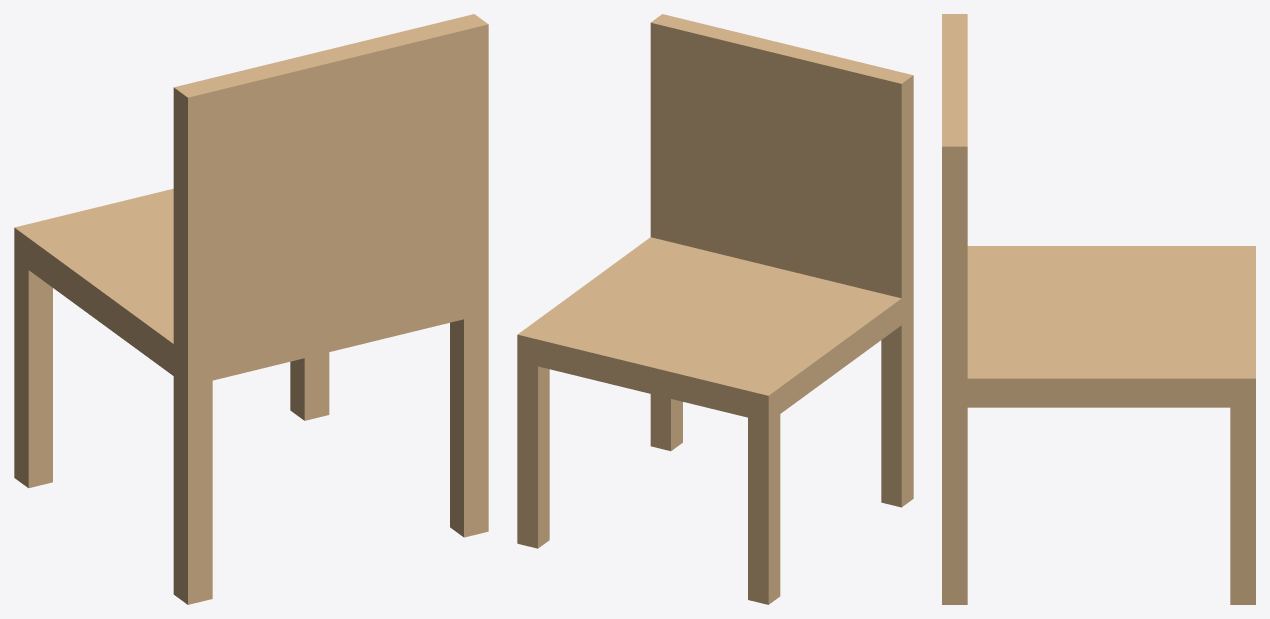
Rendered from chair2.glb.
3 renders of one model, left to right at view 1: azimuth 30°, elevation 25°; view 2: azimuth 150°, elevation 25°; view 3: azimuth 270°, elevation 25°, orthographic. The views are drawn at different scales.
Parts seen in each view (by area): view 1: Chair; view 2: Chair; view 3: Chair.
Boxes of the visible parts, <box> form: Chair: <box>14,14,488,604</box>; Chair: <box>517,14,913,604</box>; Chair: <box>942,14,1255,604</box>.
Size of the model in its own units: 0.49 by 0.79 by 0.49.
